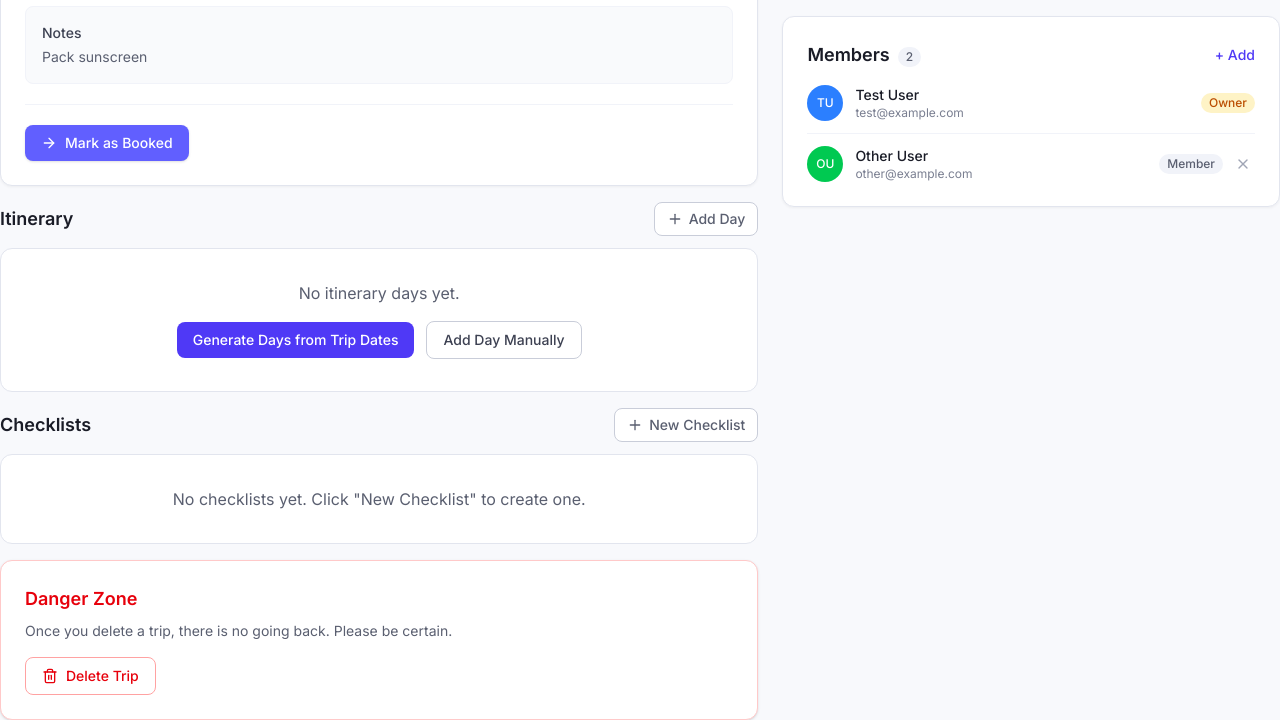
it: TripDetailPage › shows confirm dialog when delete is clicked
The image size is (1280, 720).
(page scrolled)
Click the button "Delete Trip".
click(90, 676)  # box [25,657,156,695]
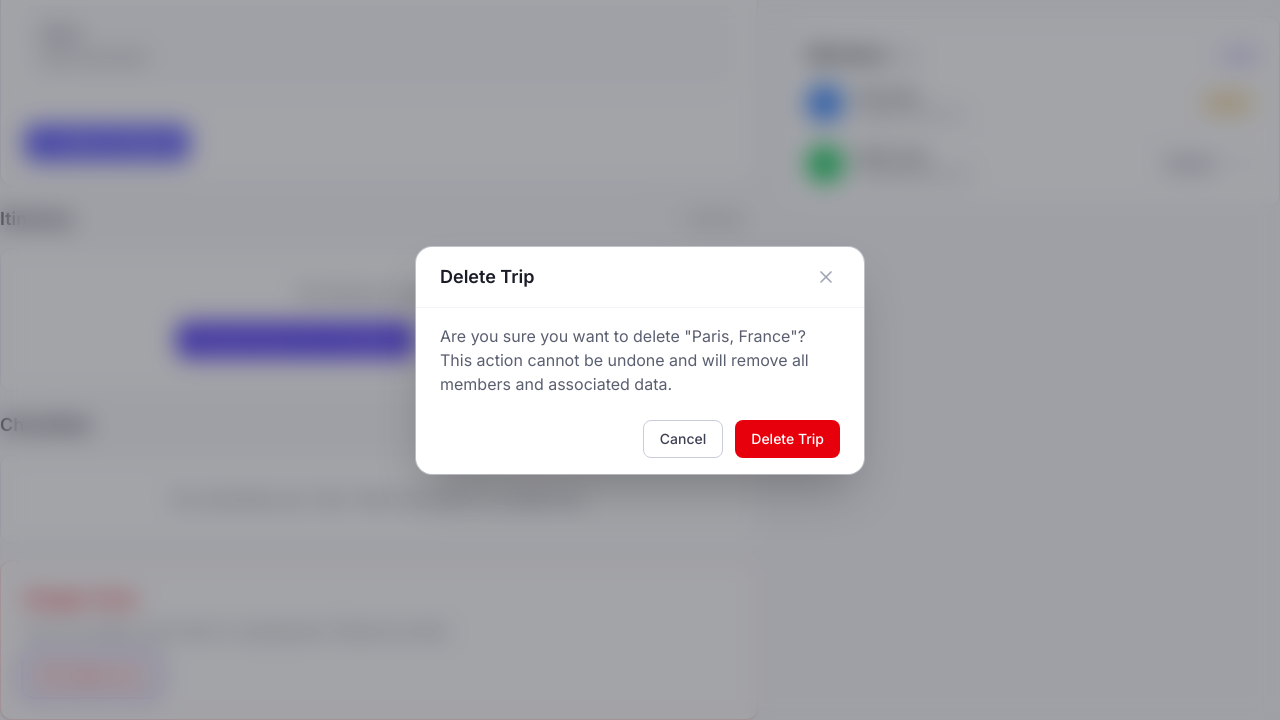
Check: the text "Are you sure" is shown, box [440,326,809,394]
